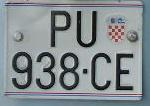-: (82, 69, 87, 74)
3: (36, 52, 54, 89)
8: (60, 53, 79, 89)
9: (12, 51, 32, 89)
C: (91, 53, 111, 90)
E: (116, 54, 134, 90)
P: (51, 10, 71, 48)
U: (76, 11, 97, 47)
